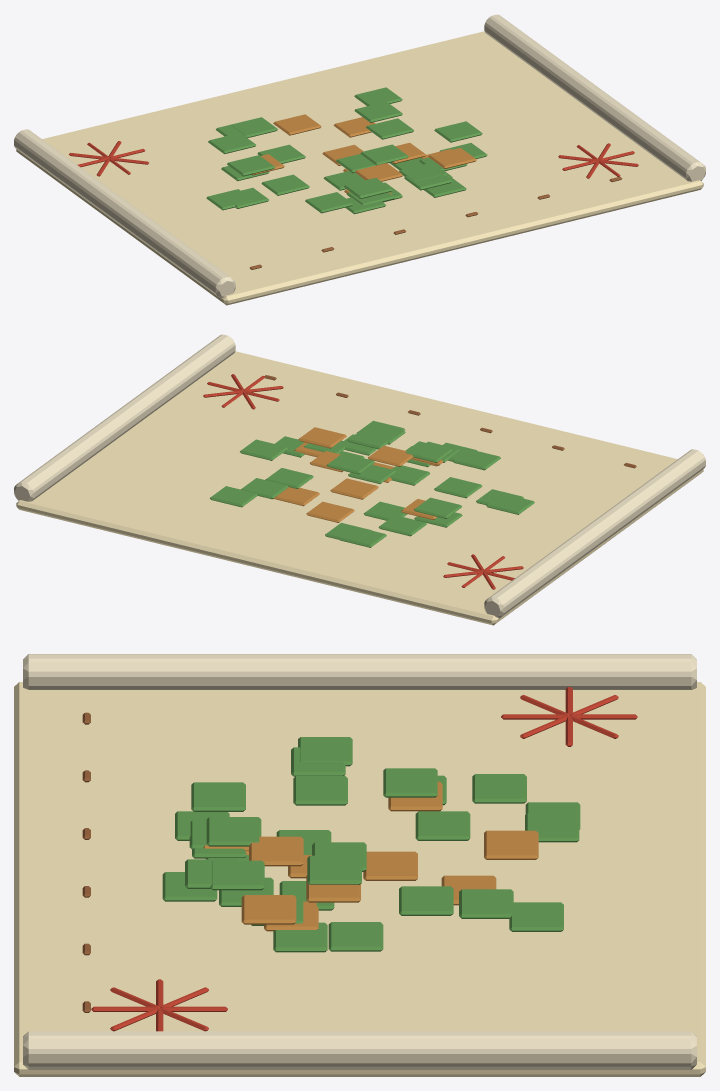
Rendered from sea_chart.glb.
3 renders of one model, top to bottom at view 1: azimuth 30°, elevation 25°; view 2: azimuth 150°, elevation 25°; view 3: azimuth 270°, elevation 25°, orthographic. The views are drawn at different scales.
Visible parts, largest first — view 1: sea_chart__body__linen, sea_chart__body__cream, sea_chart__body__green2, sea_chart__body__oak3, sea_chart__body__red; view 2: sea_chart__body__linen, sea_chart__body__cream, sea_chart__body__green2, sea_chart__body__oak3, sea_chart__body__red; view 3: sea_chart__body__linen, sea_chart__body__cream, sea_chart__body__green2, sea_chart__body__oak3, sea_chart__body__red.
Part boxes in pixels (bbox=[...]): sea_chart__body__linen: bbox=[16, 31, 703, 305]; sea_chart__body__cream: bbox=[14, 14, 705, 298]; sea_chart__body__green2: bbox=[206, 87, 487, 214]; sea_chart__body__oak3: bbox=[252, 114, 476, 194]; sea_chart__body__red: bbox=[69, 141, 638, 178]; sea_chart__body__linen: bbox=[16, 351, 703, 625]; sea_chart__body__cream: bbox=[14, 334, 705, 618]; sea_chart__body__green2: bbox=[210, 420, 534, 547]; sea_chart__body__oak3: bbox=[273, 427, 442, 522]; sea_chart__body__red: bbox=[203, 374, 523, 589]; sea_chart__body__linen: bbox=[14, 682, 705, 1076]; sea_chart__body__cream: bbox=[23, 654, 696, 1069]; sea_chart__body__green2: bbox=[162, 737, 580, 952]; sea_chart__body__oak3: bbox=[203, 781, 538, 931]; sea_chart__body__red: bbox=[91, 687, 637, 1031].
Size of the model in its own units: 1.02 by 0.0507 by 0.76.
